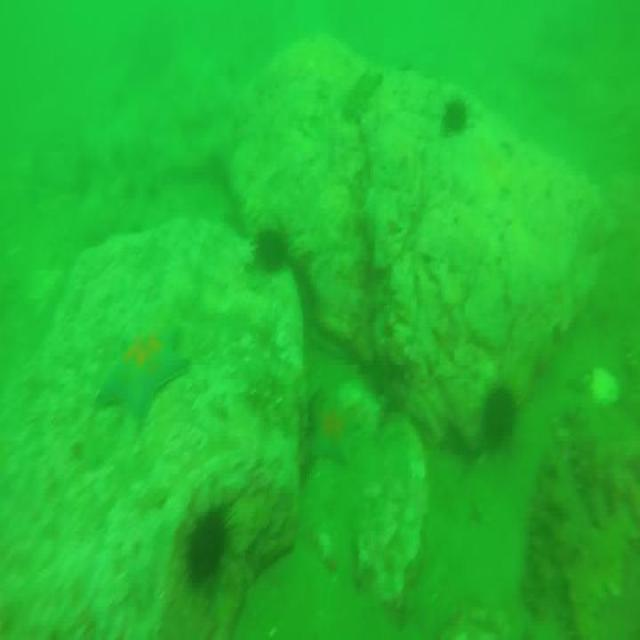echinus: (183, 501, 230, 588), (481, 380, 521, 450), (252, 215, 292, 280), (441, 95, 474, 139)
holothurian: (522, 452, 562, 621), (564, 398, 608, 531), (341, 69, 383, 117)
starfish: (100, 319, 188, 425), (311, 389, 362, 474)
